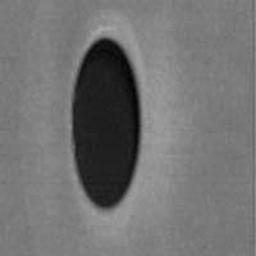Punching: (70, 37, 143, 211)
